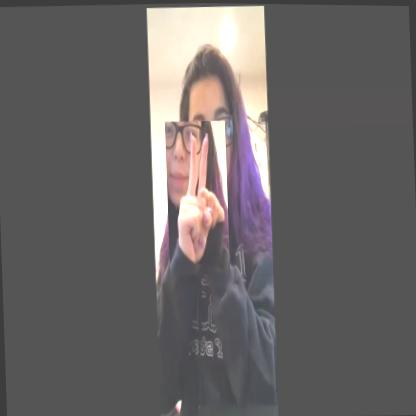NiceToMeetYou: (164, 119, 230, 275)
